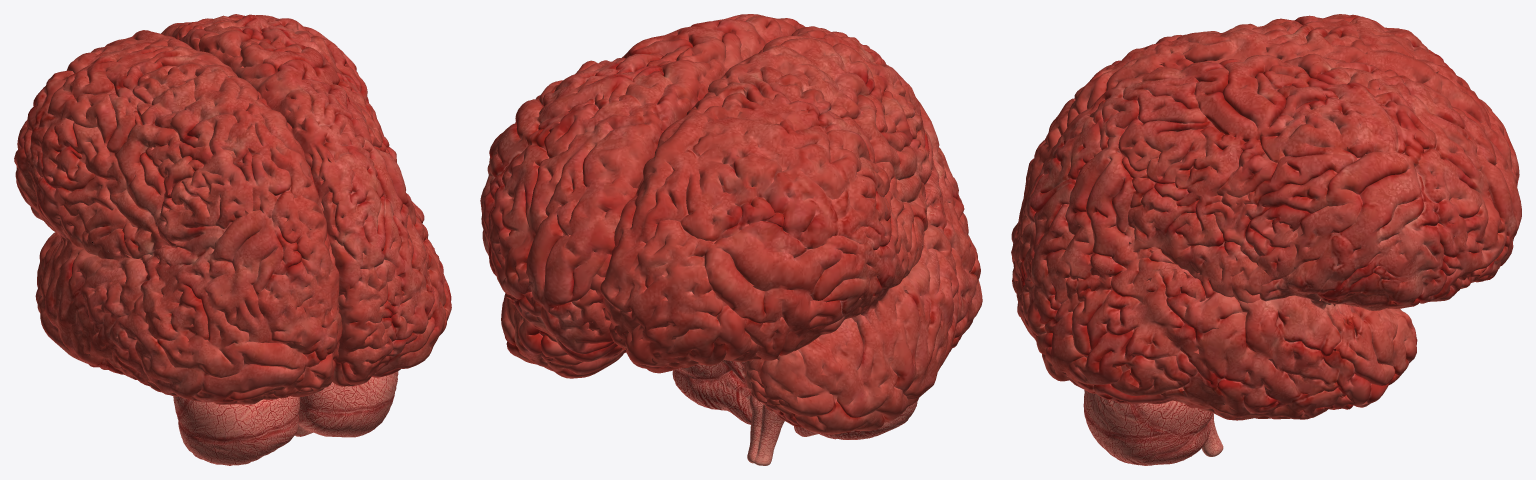
3 views of the same model, side by side, from view 1: azimuth 30°, elevation 25°; view 2: azimuth 150°, elevation 25°; view 3: azimuth 270°, elevation 25° (orthographic). The views are drawn at different scales.
Visible parts, largest first — view 1: Lobe; view 2: Lobe; view 3: Lobe.
Boxes of the visible parts, bbox=[...] form: Lobe: bbox=[14, 14, 451, 465]; Lobe: bbox=[480, 14, 982, 465]; Lobe: bbox=[1011, 14, 1521, 465].
Size of the model in its own units: 2.59 by 2.77 by 3.13.
Materials: 3 (3 with a texture image).
